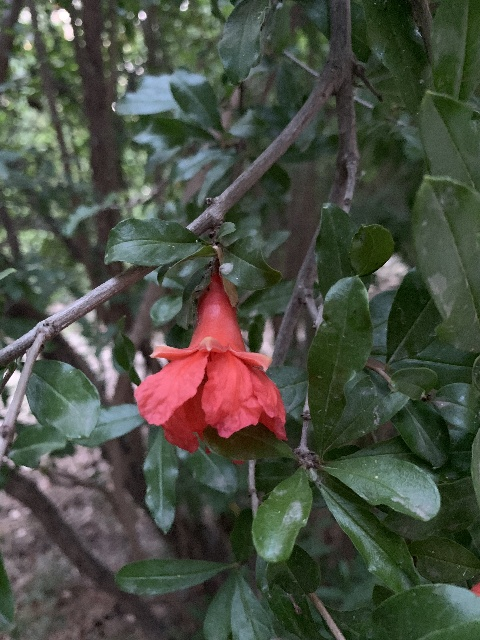flower: (133, 269, 287, 456)
